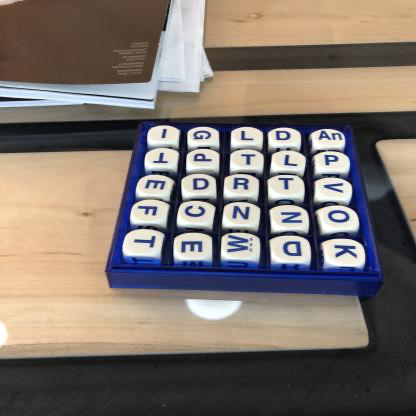an: (312, 129, 346, 148)
c: (180, 203, 215, 226)
d: (270, 236, 311, 264), (182, 174, 217, 196), (270, 129, 302, 146)
e: (175, 234, 212, 261), (139, 175, 173, 197)
f: (133, 200, 169, 223)
g: (189, 128, 219, 146)
i: (149, 126, 179, 147)
k: (324, 239, 366, 267)
l: (272, 152, 306, 171), (233, 129, 263, 146)
n: (271, 206, 309, 231), (224, 204, 260, 227)
o: (320, 206, 359, 233)
p: (315, 150, 351, 172), (188, 150, 220, 169)
r: (226, 175, 260, 196)
t: (125, 231, 164, 257), (268, 176, 305, 197), (231, 150, 265, 169), (148, 149, 178, 167)
v: (316, 178, 352, 200)
w: (222, 234, 261, 260)
